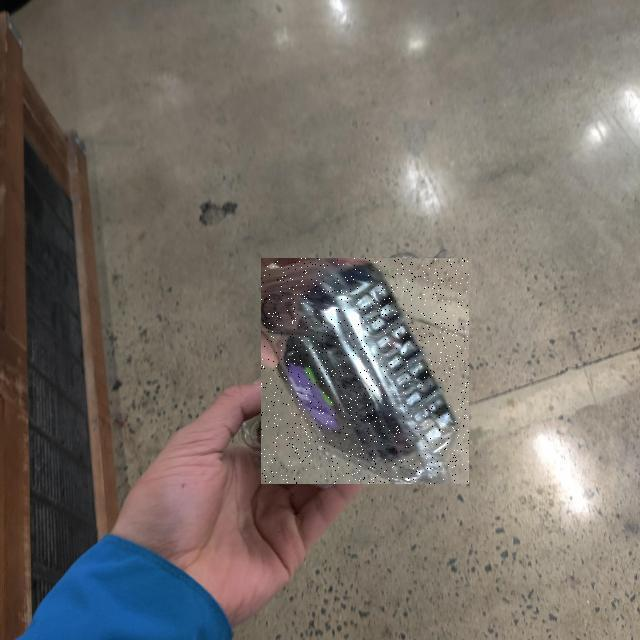Blue Berries: (261, 258, 469, 484)
